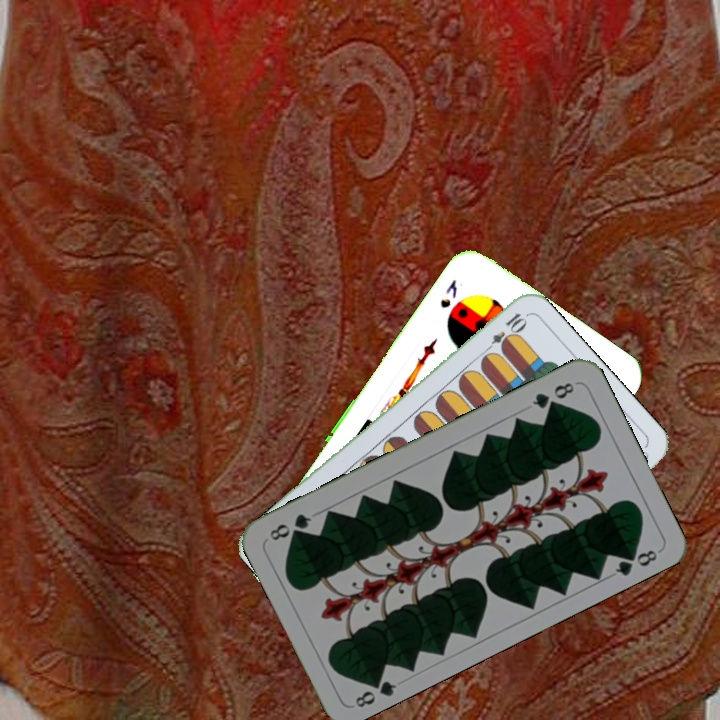E10: (479, 308, 529, 358)
G8: (351, 671, 399, 711), (528, 378, 577, 412)
SK: (436, 274, 460, 311)
